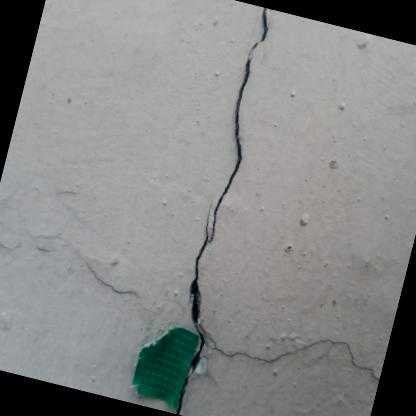crack: (209, 8, 269, 243), (176, 202, 212, 415)
